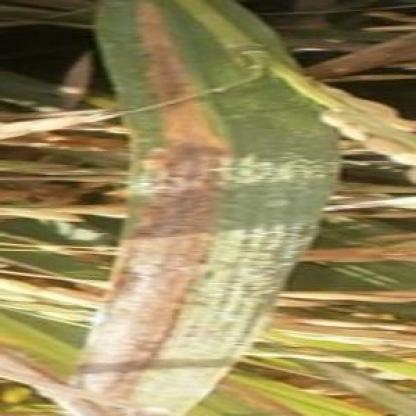Blight: (59, 1, 345, 416)
